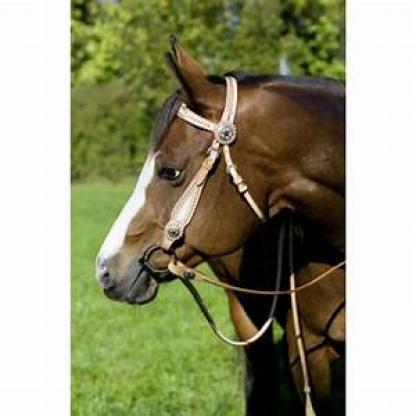horse: (96, 33, 346, 415)
